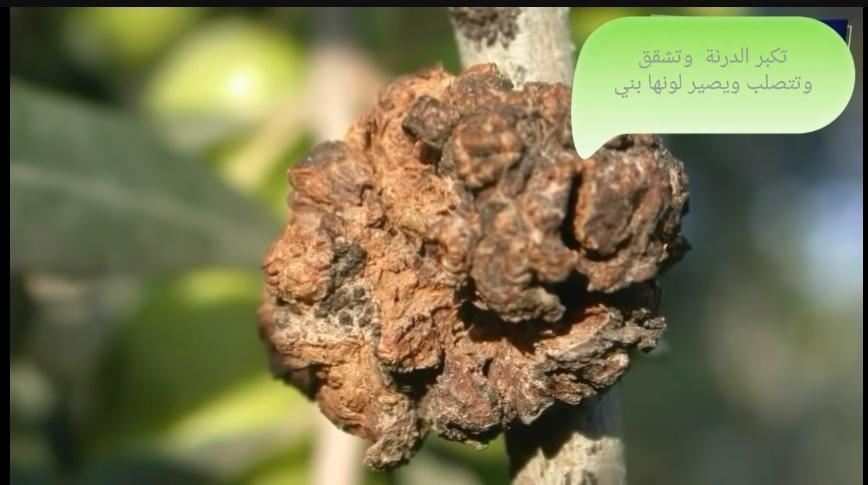Tuberculosis: (244, 50, 570, 463)
